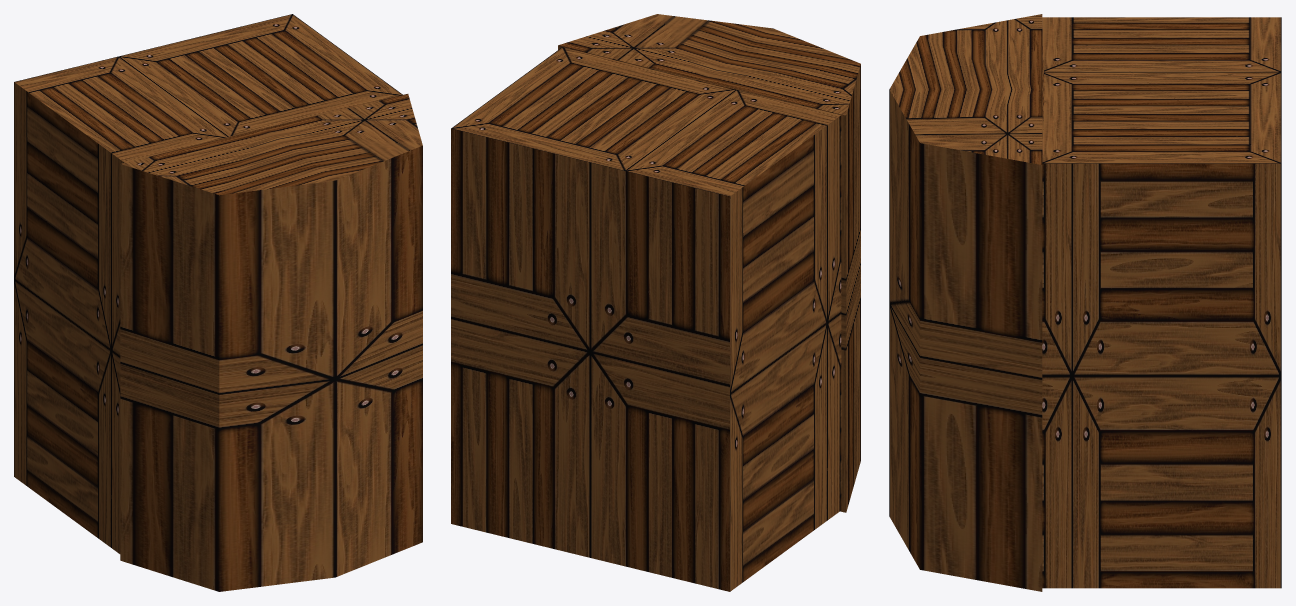
Rendered from treasearBox.obj.
3 views of the same model, side by side, from view 1: azimuth 30°, elevation 25°; view 2: azimuth 150°, elevation 25°; view 3: azimuth 270°, elevation 25° (orthographic). The views are drawn at different scales.
Parts seen in each view (by area): view 1: polySurface3, polySurface2; view 2: polySurface2, polySurface3; view 3: polySurface2, polySurface3.
Part boxes in pixels (box(x1,y1,x2,y2)): polySurface3: box(120, 94, 422, 591); polySurface2: box(14, 14, 402, 553); polySurface2: box(451, 47, 841, 591); polySurface3: box(558, 14, 860, 512); polySurface2: box(1042, 17, 1281, 588); polySurface3: box(889, 14, 1044, 591).
Bounding box in the file's own units: 6.62 × 8.72 × 7.26.
